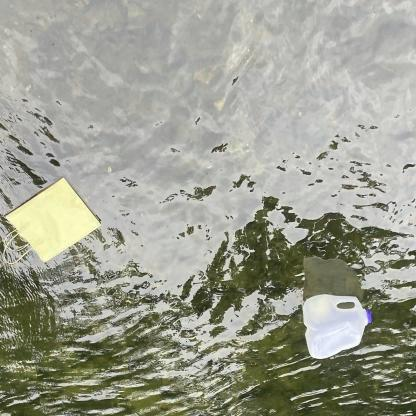Plastic: (296, 288, 374, 366)
Trash: (0, 170, 110, 278)
